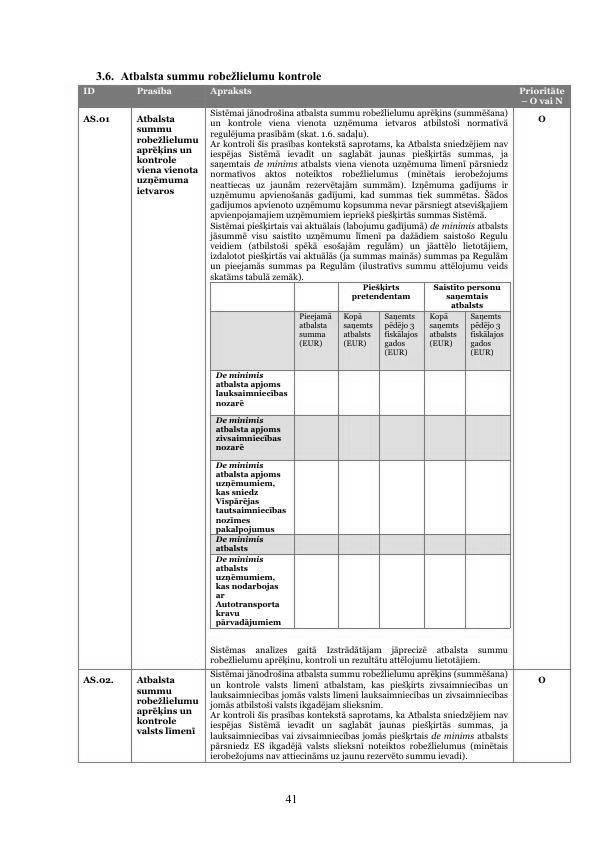table: (71, 82, 575, 769)
text: (92, 66, 325, 82)
